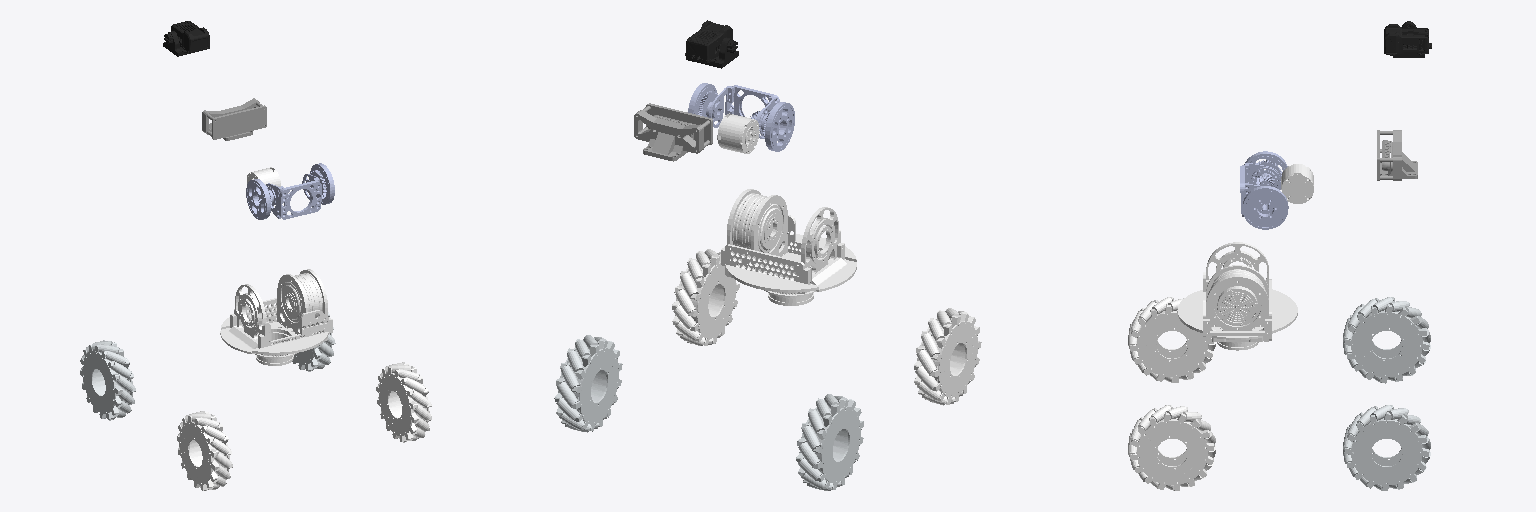
The robot description file, URDF, robot "rm26_version3_engineering_model":
<?xml version='1.0' encoding='utf-8'?>
<robot name="rm26_version3_engineering_model">
  <link name="base_link">
    <inertial>
      <origin xyz="-0.236757532207545 0.121588463591161 -0.0676624007516998" rpy="0 0 0" />
      <mass value="11.0867775313943" />
      <inertia ixx="0.0276402778153765" ixy="7.12860697020375E-06" ixz="6.19822905536815E-06" iyy="0.0341552091300131" iyz="-0.000107162802369357" izz="0.0242438684873564" />
    </inertial>
    <visual>
      <origin xyz="0 0 0" rpy="0 0 0" />
      <geometry>
        <mesh filename="../meshes/base_link_part00.STL" />
      </geometry>
      <material name="">
        <color rgba="0.898039215686275 0.917647058823529 0.929411764705882 1" />
      </material>
    </visual>
    <visual>
      <origin xyz="0 0 0" rpy="0 0 0" />
      <geometry>
        <mesh filename="../meshes/base_link_part01.STL" />
      </geometry>
      <material name="">
        <color rgba="0.898039215686275 0.917647058823529 0.929411764705882 1" />
      </material>
    </visual>
    <visual>
      <origin xyz="0 0 0" rpy="0 0 0" />
      <geometry>
        <mesh filename="../meshes/base_link_part02.STL" />
      </geometry>
      <material name="">
        <color rgba="0.898039215686275 0.917647058823529 0.929411764705882 1" />
      </material>
    </visual>
    <visual>
      <origin xyz="0 0 0" rpy="0 0 0" />
      <geometry>
        <mesh filename="../meshes/base_link_part03.STL" />
      </geometry>
      <material name="">
        <color rgba="0.898039215686275 0.917647058823529 0.929411764705882 1" />
      </material>
    </visual>
    <collision>
      <origin xyz="0 0 0" rpy="0 0 0" />
      <geometry>
        <mesh filename="../meshes/base_link_part00.STL" />
      </geometry>
    </collision>
    <collision>
      <origin xyz="0 0 0" rpy="0 0 0" />
      <geometry>
        <mesh filename="../meshes/base_link_part01.STL" />
      </geometry>
    </collision>
    <collision>
      <origin xyz="0 0 0" rpy="0 0 0" />
      <geometry>
        <mesh filename="../meshes/base_link_part02.STL" />
      </geometry>
    </collision>
    <collision>
      <origin xyz="0 0 0" rpy="0 0 0" />
      <geometry>
        <mesh filename="../meshes/base_link_part03.STL" />
      </geometry>
    </collision>
  </link>
  <link name="image_pitch_link">
    <inertial>
      <origin xyz="-0.0034154 0.025425 0.013043" rpy="0 0 0" />
      <mass value="0.044079" />
      <inertia ixx="1.8568E-05" ixy="6.9783E-10" ixz="1.752E-12" iyy="2.3883E-05" iyz="-3.3459E-06" izz="1.1287E-05" />
    </inertial>
    <visual>
      <origin xyz="0 0 0" rpy="0 0 0" />
      <geometry>
        <mesh filename="../meshes/image_pitch_link.STL" />
      </geometry>
      <material name="">
        <color rgba="0.19216 0.19216 0.19216 1" />
      </material>
    </visual>
    <collision>
      <origin xyz="0 0 0" rpy="0 0 0" />
      <geometry>
        <mesh filename="../meshes/image_pitch_link.STL" />
      </geometry>
    </collision>
  </link>
  <joint name="image_pitch" type="revolute">
    <origin xyz="-0.28805 0.22267 0.67325" rpy="-1.5708 0 -1.5708" />
    <parent link="base_link" />
    <child link="image_pitch_link" />
    <axis xyz="0 0 -1" />
    <limit lower="-3.14" upper="3.14" effort="0" velocity="0" />
  </joint>
  <link name="fl_link">
    <inertial>
      <origin xyz="4.7721E-07 1.1235E-06 -0.036001" rpy="0 0 0" />
      <mass value="0.37893" />
      <inertia ixx="0.00064352" ixy="5.2133E-09" ixz="2.7057E-09" iyy="0.00064352" iyz="-3.3907E-09" izz="0.0011794" />
    </inertial>
    <visual>
      <origin xyz="0 0 0" rpy="0 0 0" />
      <geometry>
        <mesh filename="../meshes/fl_link.STL" />
      </geometry>
      <material name="">
        <color rgba="1 1 1 1" />
      </material>
    </visual>
    <collision>
      <origin xyz="0 0 0" rpy="0 0 0" />
      <geometry>
        <mesh filename="../meshes/fl_link.STL" />
      </geometry>
    </collision>
  </link>
  <joint name="fl_joint" type="continuous">
    <origin xyz="0.021077 -0.18986 -0.0099849" rpy="-1.5708 0 -1.5708" />
    <parent link="base_link" />
    <child link="fl_link" />
    <axis xyz="0 0 1" />
  </joint>
  <link name="fr_link">
    <inertial>
      <origin xyz="0 0 -0.0360012792503324" rpy="0 0 0" />
      <mass value="0.378934862276581" />
      <inertia ixx="0.00064351111447627" ixy="-1.46872589400361E-09" ixz="4.30727787305186E-09" iyy="0.000643521303479202" iyz="5.29646695086531E-10" izz="0.00117937606918303" />
    </inertial>
    <visual>
      <origin xyz="0 0 0" rpy="0 0 0" />
      <geometry>
        <mesh filename="../meshes/fr_link.STL" />
      </geometry>
      <material name="">
        <color rgba="1 1 1 1" />
      </material>
    </visual>
    <collision>
      <origin xyz="0 0 0" rpy="0 0 0" />
      <geometry>
        <mesh filename="../meshes/fr_link.STL" />
      </geometry>
    </collision>
  </link>
  <joint name="fr_joint" type="continuous">
    <origin xyz="-0.49582 -0.18986 -0.0099849" rpy="1.5708 0 -1.5708" />
    <parent link="base_link" />
    <child link="fr_link" />
    <axis xyz="0 0 -1" />
    <limit lower="0" upper="0" effort="0" velocity="0" />
  </joint>
  <link name="rl_link">
    <inertial>
      <origin xyz="3.9664E-06 -6.7681E-06 -0.033338" rpy="0 0 0" />
      <mass value="0.44071" />
      <inertia ixx="0.00070732" ixy="-6.5337E-08" ixz="-4.3045E-09" iyy="0.00070741" iyz="-5.2772E-10" izz="0.001307" />
    </inertial>
    <visual>
      <origin xyz="0 0 0" rpy="0 0 0" />
      <geometry>
        <mesh filename="../meshes/rl_link.STL" />
      </geometry>
      <material name="">
        <color rgba="0.89804 0.91765 0.92941 1" />
      </material>
    </visual>
    <collision>
      <origin xyz="0 0 0" rpy="0 0 0" />
      <geometry>
        <mesh filename="../meshes/rl_link.STL" />
      </geometry>
    </collision>
  </link>
  <joint name="rl_joint" type="continuous">
    <origin xyz="0.021077 0.18421 -0.0099849" rpy="-1.5708 0 -1.5708" />
    <parent link="base_link" />
    <child link="rl_link" />
    <axis xyz="0 0 -1" />
  </joint>
  <link name="rr_link">
    <inertial>
      <origin xyz="-3.68920147106322E-06 -6.92309481683216E-06 -0.0333380152520213" rpy="0 0 0" />
      <mass value="0.440705130669344" />
      <inertia ixx="0.000707325947182342" ixy="6.80270021459794E-08" ixz="-2.70416454355222E-09" iyy="0.000707403534002758" iyz="3.39164968402274E-09" izz="0.00130698047684971" />
    </inertial>
    <visual>
      <origin xyz="0 0 0" rpy="0 0 0" />
      <geometry>
        <mesh filename="../meshes/rr_link.STL" />
      </geometry>
      <material name="">
        <color rgba="0.898039215686275 0.917647058823529 0.929411764705882 1" />
      </material>
    </visual>
    <collision>
      <origin xyz="0 0 0" rpy="0 0 0" />
      <geometry>
        <mesh filename="../meshes/rr_link.STL" />
      </geometry>
    </collision>
  </link>
  <joint name="rr_joint" type="continuous">
    <origin xyz="-0.49582 0.18421 -0.0099849" rpy="1.5708 0 -1.5708" />
    <parent link="base_link" />
    <child link="rr_link" />
    <axis xyz="0 0 -1" />
  </joint>
  <link name="j0_link">
    <inertial>
      <origin xyz="2.3026E-05 0.025841 0.035553" rpy="0 0 0" />
      <mass value="1.0643" />
      <inertia ixx="0.0012382" ixy="1.9441E-08" ixz="1.674E-07" iyy="0.0013392" iyz="-9.1485E-06" izz="0.0014927" />
    </inertial>
    <visual>
      <origin xyz="0 0 0" rpy="0 0 0" />
      <geometry>
        <mesh filename="../meshes/j0_link.STL" />
      </geometry>
      <material name="">
        <color rgba="1 1 1 1" />
      </material>
    </visual>
    <collision>
      <origin xyz="0 0 0" rpy="0 0 0" />
      <geometry>
        <mesh filename="../meshes/j0_link.STL" />
      </geometry>
    </collision>
  </link>
  <joint name="j0" type="revolute">
    <origin xyz="-0.23762 -0.075826 0.13063" rpy="0 0 -1.5708" />
    <parent link="base_link" />
    <child link="j0_link" />
    <axis xyz="0 0 1" />
    <limit lower="-6.28" upper="6.28" effort="0" velocity="0" />
  </joint>
  <link name="j1_link">
    <inertial>
      <origin xyz="-0.21452007134394 -0.123869194640968 0.0297993087824913" rpy="0 0 0" />
      <mass value="0.745566541234434" />
      <inertia ixx="0.00405331889035177" ixy="-0.00562566715369828" ixz="-2.60553379773979E-05" iyy="0.0105491816338337" iyz="-1.50314469915947E-05" izz="0.0140980783695654" />
    </inertial>
    <visual>
      <origin xyz="0 0 0" rpy="0 0 0" />
      <geometry>
        <mesh filename="../meshes/j1_link.STL" />
      </geometry>
      <material name="">
        <color rgba="0.898039215686275 0.917647058823529 0.929411764705882 1" />
      </material>
    </visual>
    <collision>
      <origin xyz="0 0 0" rpy="0 0 0" />
      <geometry>
        <mesh filename="../meshes/j1_link.STL" />
      </geometry>
    </collision>
  </link>
  <joint name="j1" type="revolute">
    <origin xyz="0 -0.0365 0.0699" rpy="-1.5708 0 0" />
    <parent link="j0_link" />
    <child link="j1_link" />
    <axis xyz="0 0 1" />
    <limit lower="-6.28" upper="6.28" effort="0" velocity="0" />
  </joint>
  <link name="j2_link">
    <inertial>
      <origin xyz="0.0696429141526274 0.000316192584525476 0.0332053814692544" rpy="0 0 0" />
      <mass value="0.409938410552178" />
      <inertia ixx="0.000199601281880135" ixy="-6.21075766536687E-07" ixz="-1.22800316742059E-06" iyy="0.000636339600801682" iyz="-1.57166121087402E-08" izz="0.000639339288858898" />
    </inertial>
    <visual>
      <origin xyz="0 0 0" rpy="0 0 0" />
      <geometry>
        <mesh filename="../meshes/j2_link.STL" />
      </geometry>
      <material name="">
        <color rgba="1 1 1 1" />
      </material>
    </visual>
    <collision>
      <origin xyz="0 0 0" rpy="0 0 0" />
      <geometry>
        <mesh filename="../meshes/j2_link.STL" />
      </geometry>
    </collision>
  </link>
  <joint name="j2" type="revolute">
    <origin xyz="-0.36373 -0.21 0.06675" rpy="0 0 0" />
    <parent link="j1_link" />
    <child link="j2_link" />
    <axis xyz="0 0 -1" />
    <limit lower="-6.28" upper="6.28" effort="0" velocity="0" />
  </joint>
  <link name="j3_link">
    <inertial>
      <origin xyz="-0.00632789879794857 2.8398085042014E-05 0.0325503332561586" rpy="0 0 0" />
      <mass value="0.281074667367315" />
      <inertia ixx="0.00013171452454055" ixy="1.33166990827616E-08" ixz="-7.34964430261519E-09" iyy="0.000119079773547782" iyz="-9.25326592920787E-08" izz="0.000132330758439381" />
    </inertial>
    <visual>
      <origin xyz="0 0 0" rpy="0 0 0" />
      <geometry>
        <mesh filename="../meshes/j3_link.STL" />
      </geometry>
      <material name="">
        <color rgba="0.898039215686275 0.917647058823529 0.929411764705882 1" />
      </material>
    </visual>
    <collision>
      <origin xyz="0 0 0" rpy="0 0 0" />
      <geometry>
        <mesh filename="../meshes/j3_link.STL" />
      </geometry>
    </collision>
  </link>
  <joint name="j3" type="revolute">
    <origin xyz="0.1465 0 0.033" rpy="0 -1.5708 3.1415926" />
    <parent link="j2_link" />
    <child link="j3_link" />
    <axis xyz="0 0 1" />
    <limit lower="-6.28" upper="6.28" effort="0" velocity="0" />
  </joint>
  <link name="j4_link">
    <inertial>
      <origin xyz="0.062951 1.0715E-08 -0.051623" rpy="0 0 0" />
      <mass value="0.41838" />
      <inertia ixx="0.00015462" ixy="2.5882E-11" ixz="-4.2806E-08" iyy="0.00033976" iyz="1.0648E-09" izz="0.0003785" />
    </inertial>
    <visual>
      <origin xyz="0 0 0" rpy="0 0 0" />
      <geometry>
        <mesh filename="../meshes/j4_link_part00.STL" />
      </geometry>
      <material name="">
        <color rgba="1 1 1 1" />
      </material>
    </visual>
    <visual>
      <origin xyz="0 0 0" rpy="0 0 0" />
      <geometry>
        <mesh filename="../meshes/j4_link_part01.STL" />
      </geometry>
      <material name="">
        <color rgba="1 1 1 1" />
      </material>
    </visual>
    <collision>
      <origin xyz="0 0 0" rpy="0 0 0" />
      <geometry>
        <mesh filename="../meshes/j4_link_part00.STL" />
      </geometry>
    </collision>
    <collision>
      <origin xyz="0 0 0" rpy="0 0 0" />
      <geometry>
        <mesh filename="../meshes/j4_link_part01.STL" />
      </geometry>
    </collision>
  </link>
  <joint name="j4" type="revolute">
    <origin xyz="-0.0515 0 0.0475" rpy="3.1416 -1.5708 3.1415926" />
    <parent link="j3_link" />
    <child link="j4_link" />
    <axis xyz="0 0 1" />
    <limit lower="-6.28" upper="6.28" effort="0" velocity="0" />
  </joint>
  <link name="j5_link">
    <inertial>
      <origin xyz="0.011594 -3.4728E-09 -0.073929" rpy="0 0 0" />
      <mass value="0.22795" />
      <inertia ixx="0.0001062" ixy="-4.4949E-11" ixz="-4.9646E-10" iyy="8.0988E-05" iyz="-9.6973E-13" izz="9.1244E-05" />
    </inertial>
    <visual>
      <origin xyz="0 0 0" rpy="0 0 0" />
      <geometry>
        <mesh filename="../meshes/j5_link.STL" />
      </geometry>
      <material name="">
        <color rgba="0.79608 0.82353 0.93725 1" />
      </material>
    </visual>
    <collision>
      <origin xyz="0 0 0" rpy="0 0 0" />
      <geometry>
        <mesh filename="../meshes/j5_link.STL" />
      </geometry>
    </collision>
  </link>
  <joint name="end_differential_controller/j5" type="revolute">
    <origin xyz="0.1211 0 0.0245" rpy="0 0 -0.042714" />
    <parent link="j4_link" />
    <child link="j5_link" />
    <axis xyz="0 0 1" />
    <limit lower="-6.28" upper="6.28" effort="0" velocity="0" />
  </joint>
  <link name="j6_link">
    <inertial>
      <origin xyz="-0.00556809061221175 0.00219332288591756 0.0632314046408631" rpy="0 0 0" />
      <mass value="0.420526104189671" />
      <inertia ixx="0.000139233197361273" ixy="1.1378053768375E-08" ixz="4.20944902019558E-07" iyy="0.00022836182456035" iyz="1.92096833440415E-06" izz="0.000184316808132472" />
    </inertial>
    <visual>
      <origin xyz="0 0 0" rpy="0 0 0" />
      <geometry>
        <mesh filename="../meshes/j6_link.STL" />
      </geometry>
      <material name="">
        <color rgba="1 1 1 1" />
      </material>
    </visual>
    <collision>
      <origin xyz="0 0 0" rpy="0 0 0" />
      <geometry>
        <mesh filename="../meshes/j6_link.STL" />
      </geometry>
    </collision>
  </link>
  <joint name="end_differential_controller/j6" type="revolute">
    <origin xyz="0.012369 0 -0.0755" rpy="0.042714 1.5708 0.09" />
    <parent link="j5_link" />
    <child link="j6_link" />
    <axis xyz="0 0 1" />
    <limit lower="-6.28" upper="6.28" effort="0" velocity="0" />
  </joint>
  <link name="end_link">
    <inertial>
      <origin xyz="0 0 0" rpy="0 0 0" />
      <mass value="0.001" />
      <inertia ixx="1e-6" ixy="0" ixz="0" iyy="1e-6" iyz="0" izz="1e-6" />
    </inertial>
  </link>
  <joint name="end_joint" type="revolute">
    <origin xyz="-0.02505 0.031474 0.07154" rpy="0 -1.5281 -1.5708" />
    <parent link="j6_link" />
    <child link="end_link" />
    <axis xyz="0 0 -1" />
    <limit lower="-6.28" upper="6.28" effort="0" velocity="0" />
  </joint>
  <link name="camera_link">
    <inertial>
      <origin xyz="0.012567 -0.0225 -0.0042981" rpy="0 0 0" />
      <mass value="0.056516" />
      <inertia ixx="6.5872E-05" ixy="-5.5128E-19" ixz="-1.1392E-07" iyy="1.3054E-05" iyz="5.6743E-20" izz="5.8923E-05" />
    </inertial>
    <visual>
      <origin xyz="0 0 0" rpy="0 0 0" />
      <geometry>
        <mesh filename="../meshes/camera_link.STL" />
      </geometry>
      <material name="">
        <color rgba="0.69804 0.69804 0.69804 1" />
      </material>
    </visual>
    <collision>
      <origin xyz="0 0 0" rpy="0 0 0" />
      <geometry>
        <mesh filename="../meshes/camera_link.STL" />
      </geometry>
    </collision>
  </link>
  <joint name="camera_joint" type="fixed">
    <origin xyz="0.093 -0.0675 0.0555" rpy="1.5708 0 0" />
    <parent link="j2_link" />
    <child link="camera_link" />
    <axis xyz="0 0 0" />
  </joint>
</robot>

--- What the picture shows (computed from the rendered views, not written in the file) ---
3 views of the same robot in one strip: view 1: azimuth 30°, elevation 25°; view 2: azimuth 150°, elevation 25°; view 3: azimuth 270°, elevation 25° (orthographic).
Robot: rm26_version3_engineering_model — 15 links, 14 joints (9 revolute, 4 continuous, 1 fixed); root link base_link; default pose: all joints at 0.
Links seen in each view (by area): view 1: j0_link, rr_link, fl_link, fr_link, j5_link, camera_link, image_pitch_link, rl_link; view 2: j0_link, rl_link, fr_link, rr_link, fl_link, j5_link, camera_link, image_pitch_link, j4_link; view 3: j0_link, rl_link, rr_link, fl_link, fr_link, j5_link, camera_link, image_pitch_link, j4_link.
Link boxes in pixels (x1,y1,x2,y2): j0_link: (220,269,332,365); rr_link: (80,340,135,420); fl_link: (376,362,431,442); fr_link: (177,411,232,490); j5_link: (246,163,334,219); camera_link: (202,98,266,140); image_pitch_link: (163,21,209,56); rl_link: (292,312,335,371); j0_link: (721,189,856,305); rl_link: (554,335,622,432); fr_link: (914,308,981,405); rr_link: (796,394,863,490); fl_link: (672,249,739,345); j5_link: (688,83,794,151); camera_link: (634,103,712,161); image_pitch_link: (685,20,738,68); j4_link: (717,113,759,153); j0_link: (1177,242,1297,350); rl_link: (1343,405,1430,490); rr_link: (1343,297,1430,383); fl_link: (1128,405,1215,490); fr_link: (1128,297,1215,382); j5_link: (1240,151,1288,229); camera_link: (1377,130,1417,180); image_pitch_link: (1384,21,1431,57); j4_link: (1281,164,1313,203).
Bounding box of the posed robot: 0.4859 × 0.5294 × 0.7697 m (x, y, z).
9 mesh visuals loaded from 18 distinct referenced files (9 binary STL); not drawn: 9 (reference not matched to a file when rendering).
